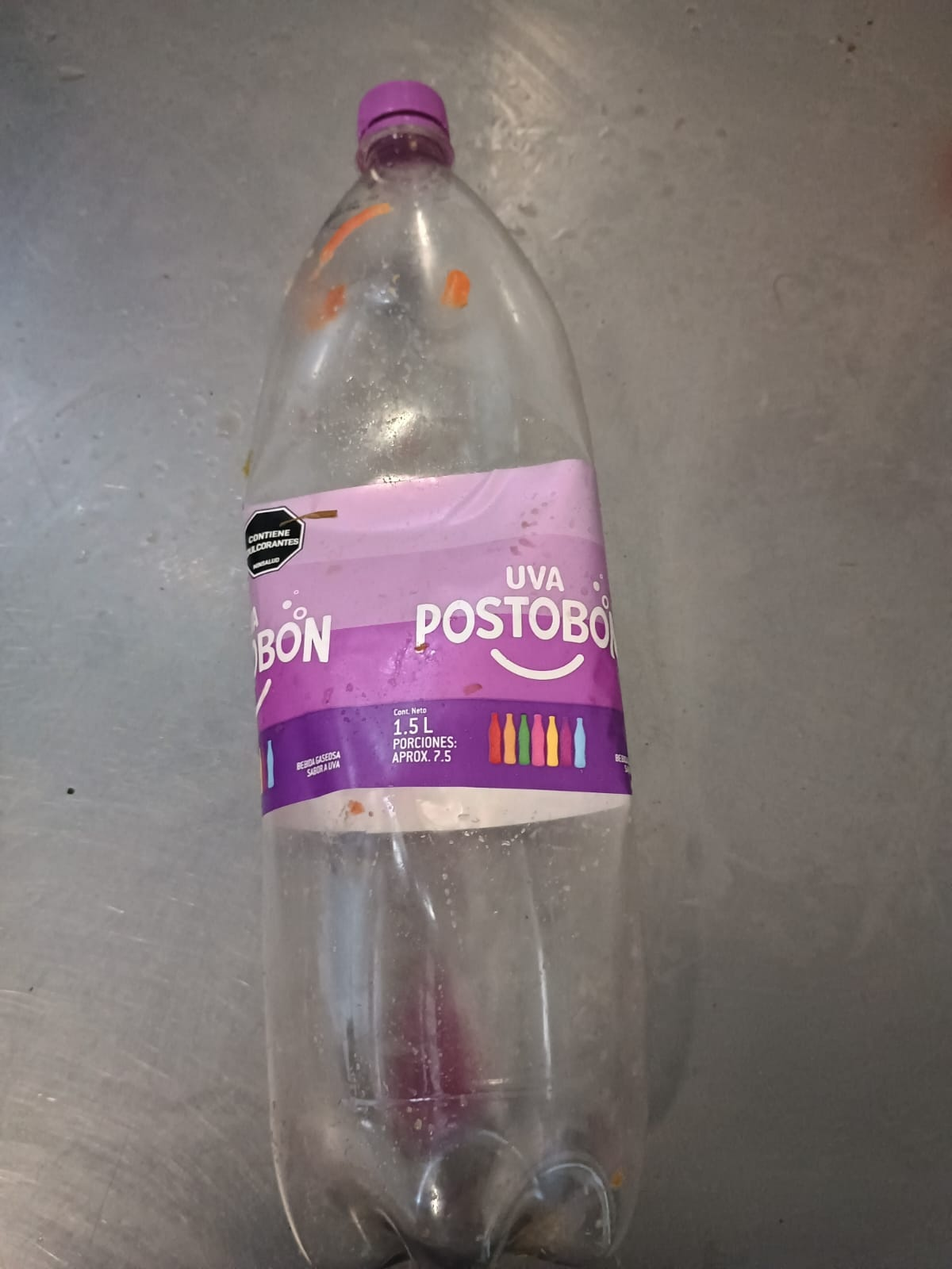Plastico: (246, 80, 637, 1269)
